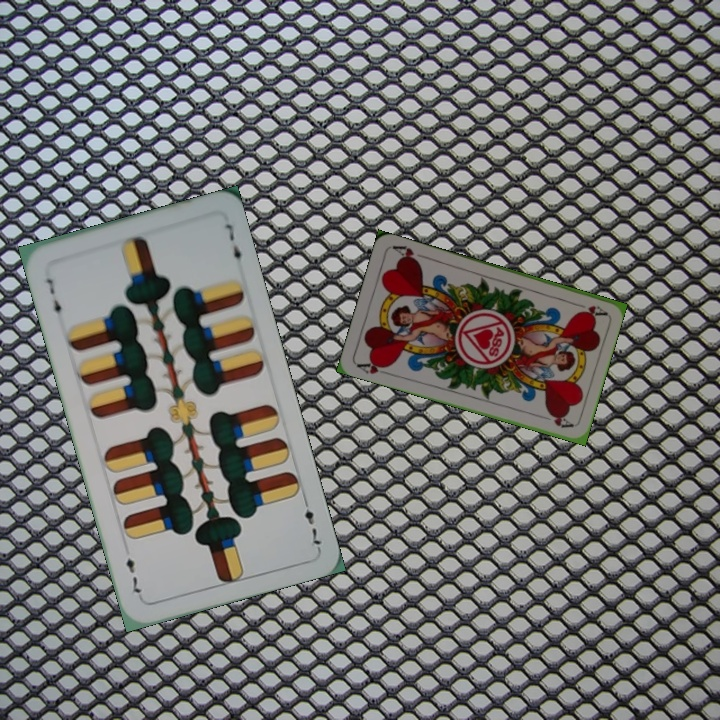E7: (299, 493, 323, 551), (42, 273, 64, 323)
HA: (353, 357, 393, 377), (568, 298, 608, 318)
